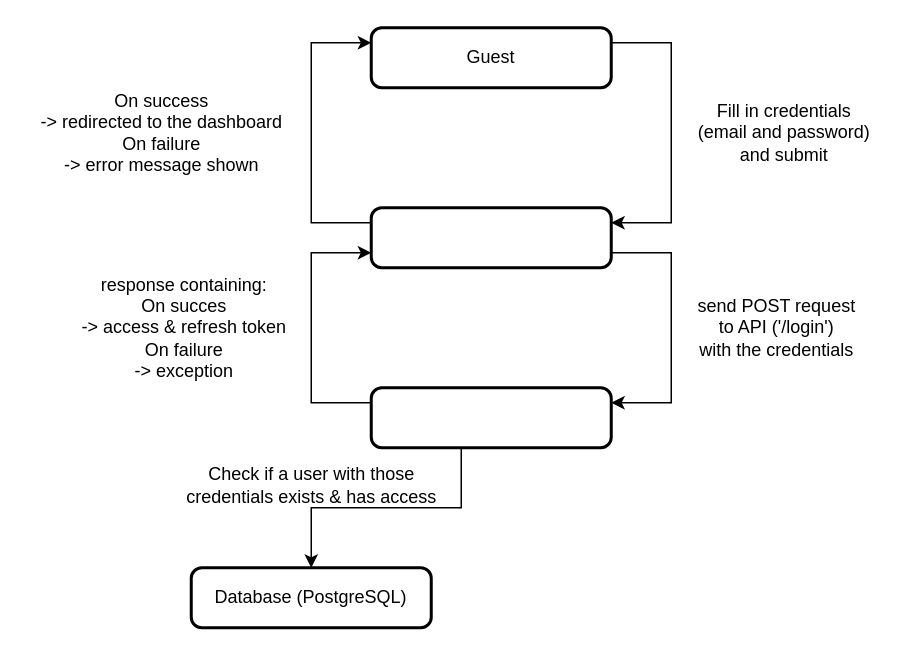
Some shapes in this 906 by 654 pixel diagram are drawn without their labels. Each missing label, with the centre of its shape:
API: point 490,417
Website (frontend): point 490,237
